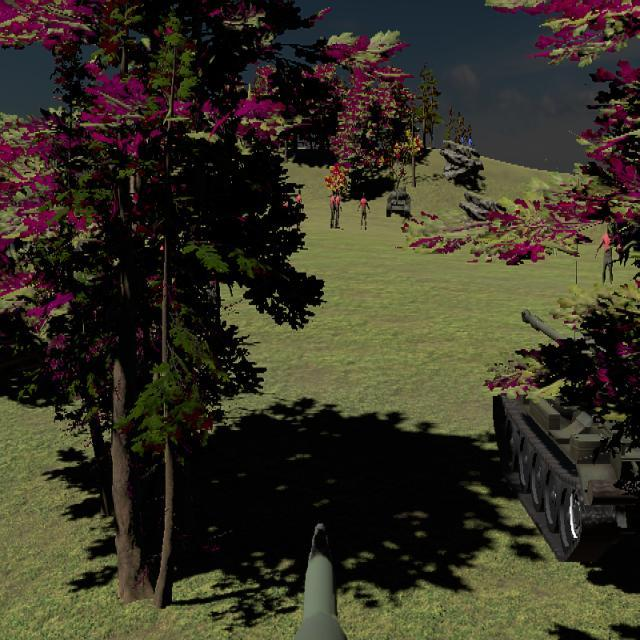Human: (595, 224, 619, 288)
Tank: (386, 187, 412, 220)
